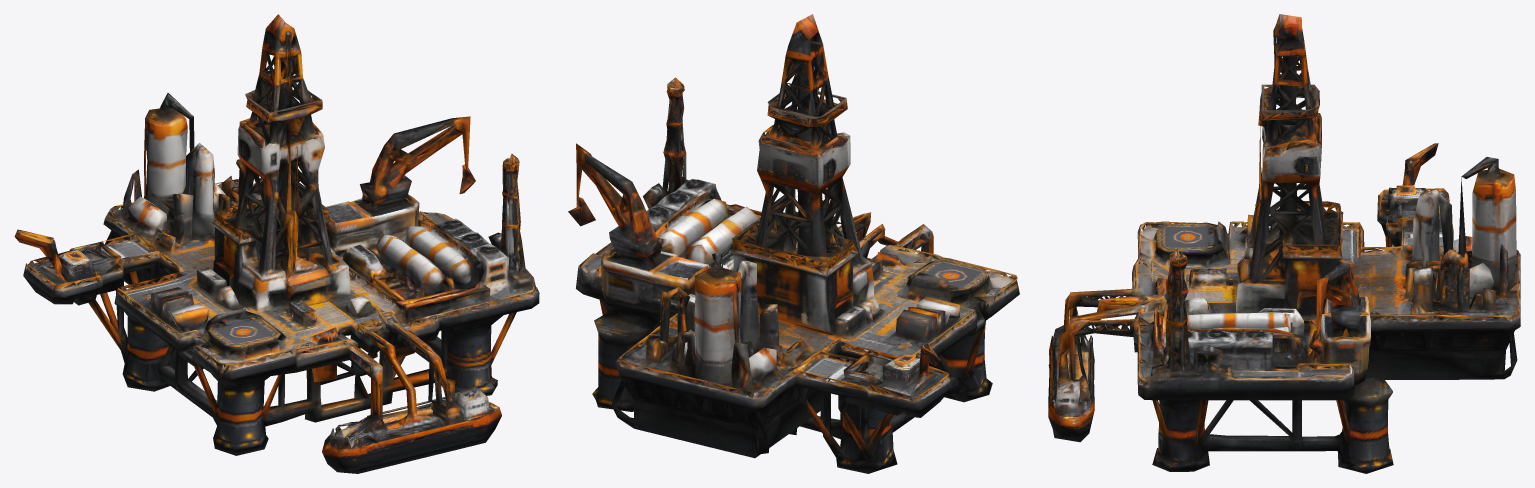
File: building-extraction-rig-l3.glb
3 views of the same model, side by side, from view 1: azimuth 30°, elevation 25°; view 2: azimuth 150°, elevation 25°; view 3: azimuth 270°, elevation 25° (orthographic). The views are drawn at different scales.
Parts seen in each view (by area): view 1: tripo_node_af8e78c6-f6fb-4dc6-bc59-c86935f6f87b; view 2: tripo_node_af8e78c6-f6fb-4dc6-bc59-c86935f6f87b; view 3: tripo_node_af8e78c6-f6fb-4dc6-bc59-c86935f6f87b.
Part boxes in pixels (<box>): tripo_node_af8e78c6-f6fb-4dc6-bc59-c86935f6f87b: <box>14,14,539,473</box>; tripo_node_af8e78c6-f6fb-4dc6-bc59-c86935f6f87b: <box>568,14,1019,473</box>; tripo_node_af8e78c6-f6fb-4dc6-bc59-c86935f6f87b: <box>1048,14,1520,473</box>.
Size of the model in its own units: 0.9759 by 0.8452 by 0.956.
1 material, 1 textured.
